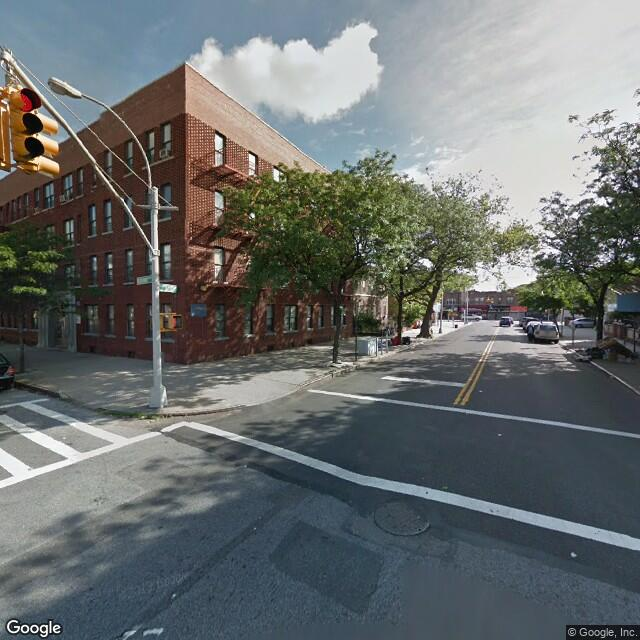litter: (571, 552, 575, 557), (171, 594, 177, 596), (498, 431, 501, 434), (477, 388, 481, 390)
